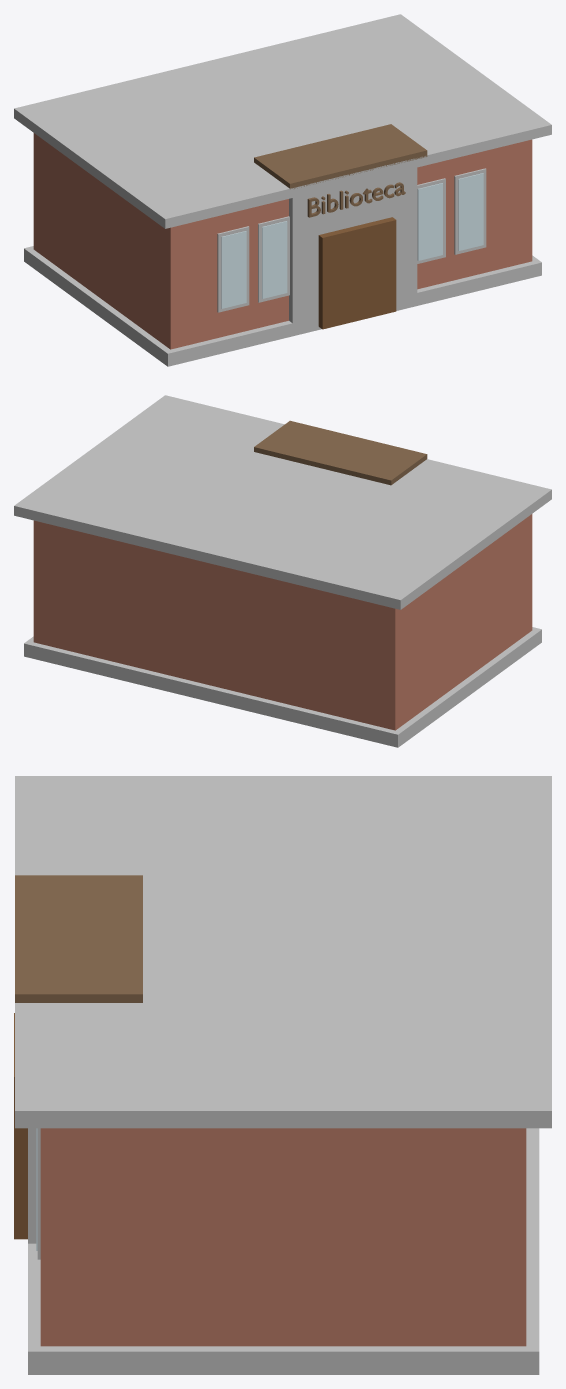
The model's file is Bibliotca.fbx.
3 views of the same model, one above another, from view 1: azimuth 30°, elevation 25°; view 2: azimuth 150°, elevation 25°; view 3: azimuth 270°, elevation 25° (orthographic). The views are drawn at different scales.
Parts seen in each view (by area): view 1: Biblioteca; view 2: Biblioteca; view 3: Biblioteca.
Part boxes in pixels (bbox=[...]): Biblioteca: bbox=[14, 14, 551, 366]; Biblioteca: bbox=[14, 395, 551, 747]; Biblioteca: bbox=[14, 776, 551, 1374].
Bounding box in the file's own units: 2155 × 834 × 1463.
